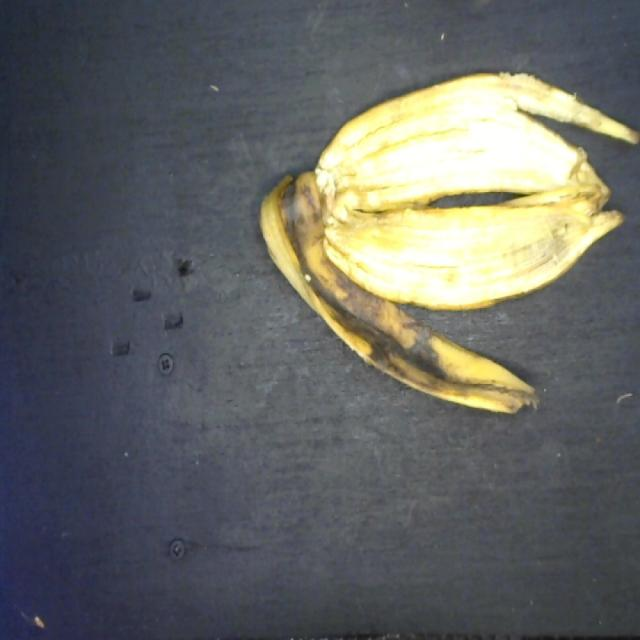biodegradable: (254, 60, 640, 415)
